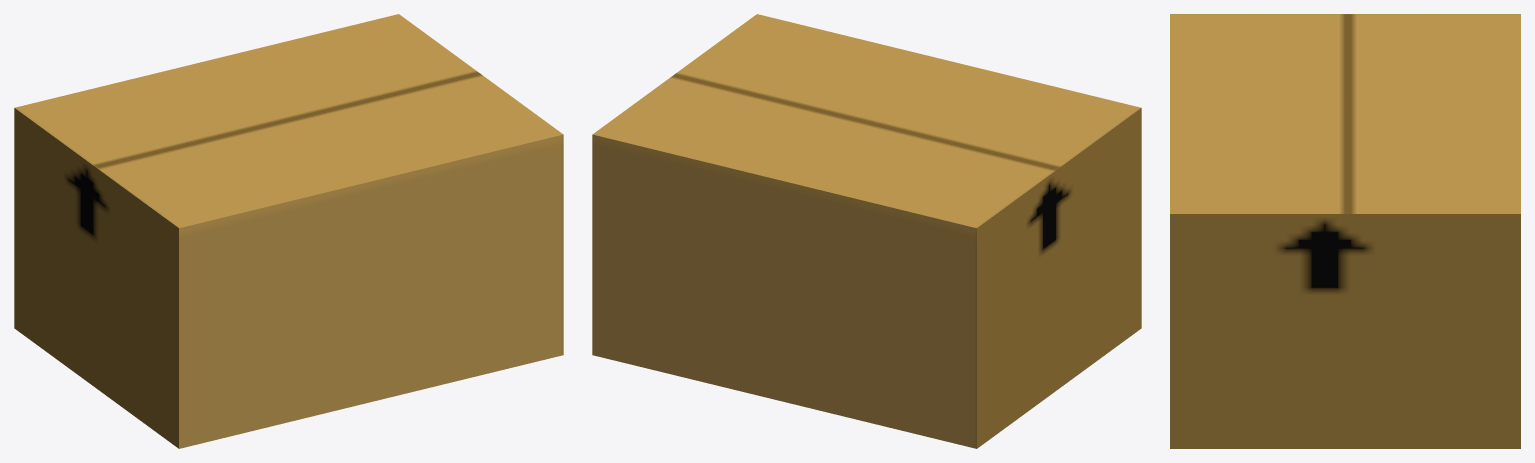
The model's file is SM_CardboardBox_02.fbx.
3 views of the same model, side by side, from view 1: azimuth 30°, elevation 25°; view 2: azimuth 150°, elevation 25°; view 3: azimuth 270°, elevation 25° (orthographic). The views are drawn at different scales.
Parts seen in each view (by area): view 1: SM_CardboardBox_02; view 2: SM_CardboardBox_02; view 3: SM_CardboardBox_02.
Part boxes in pixels (x1=…): SM_CardboardBox_02: x1=14, y1=14, x2=563, y2=448; SM_CardboardBox_02: x1=592, y1=14, x2=1141, y2=448; SM_CardboardBox_02: x1=1170, y1=14, x2=1520, y2=448.
Size of the model in its own units: 1.23 by 0.6721 by 0.909.
